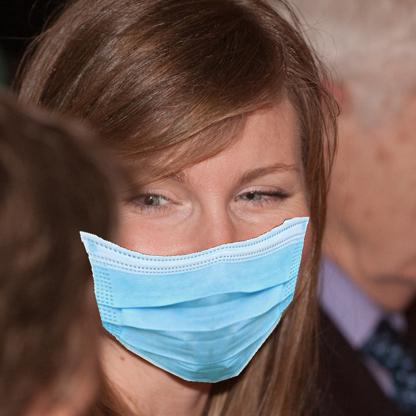mask: (77, 216, 310, 385)
